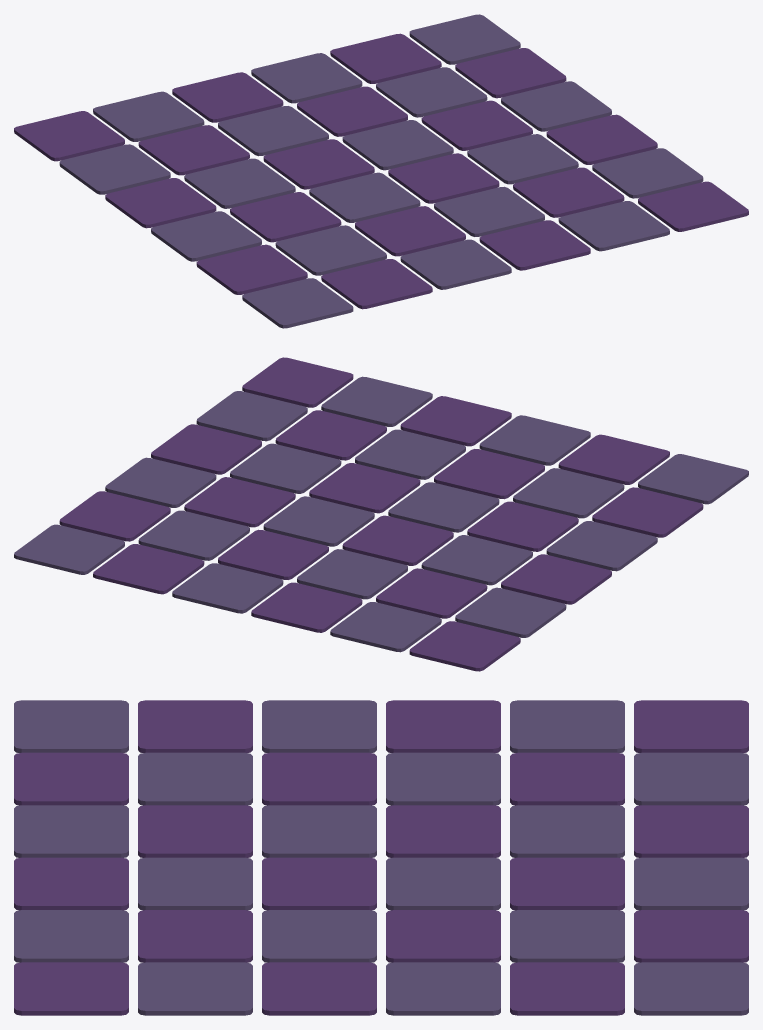
Rendered from TilesCheckerPattern.fbx.
3 renders of one model, top to bottom at view 1: azimuth 30°, elevation 25°; view 2: azimuth 150°, elevation 25°; view 3: azimuth 270°, elevation 25°, orthographic. The views are drawn at different scales.
Parts seen in each view (by area): view 1: Plane.004; view 2: Plane.004; view 3: Plane.004.
Part boxes in pixels (x1,y1,x2,y2): Plane.004: (14, 14, 748, 328); Plane.004: (14, 357, 748, 671); Plane.004: (14, 700, 748, 1015).
Bounding box in the file's own units: 155 × 1.09 × 155.
